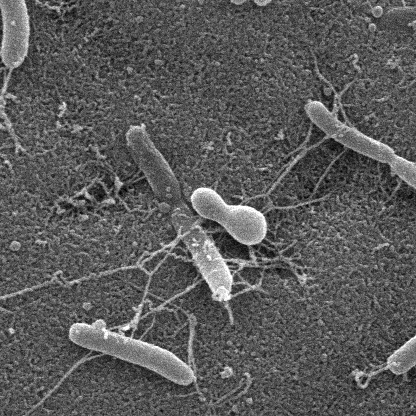cell2cell: (235, 137, 324, 206), (117, 280, 208, 337)
cell2surface: (63, 220, 200, 282), (0, 282, 60, 311)
curved: (193, 189, 267, 246)
regular: (71, 326, 197, 389), (304, 98, 397, 165), (172, 211, 234, 300), (124, 126, 185, 202), (0, 0, 28, 69), (389, 313, 416, 372), (391, 156, 416, 219), (226, 0, 256, 7)
